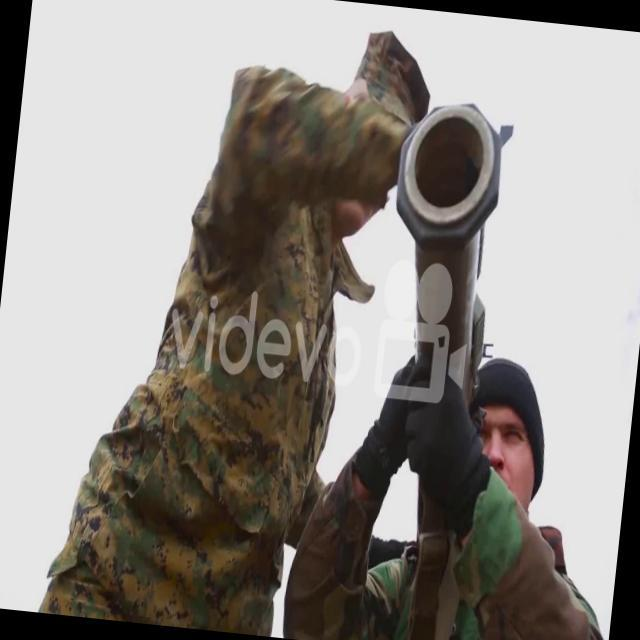rocket: (376, 95, 510, 397)
